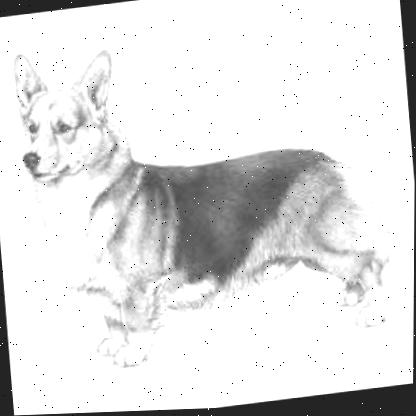dog: (8, 8, 404, 380)
